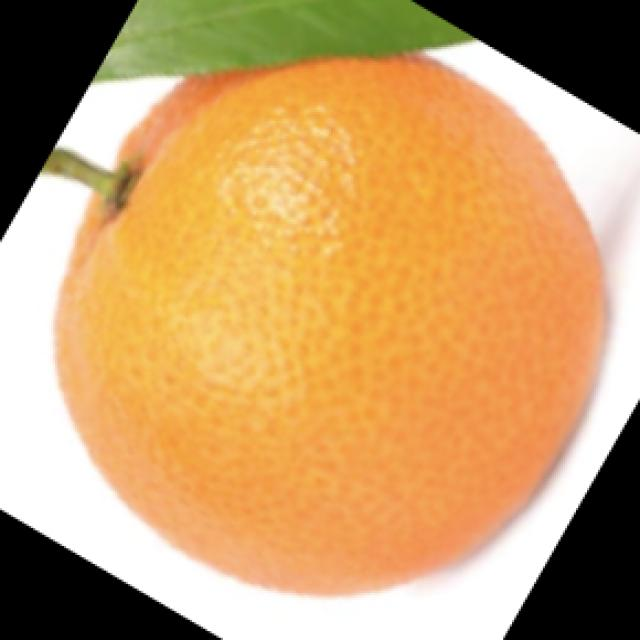fresh: (26, 34, 625, 601)
